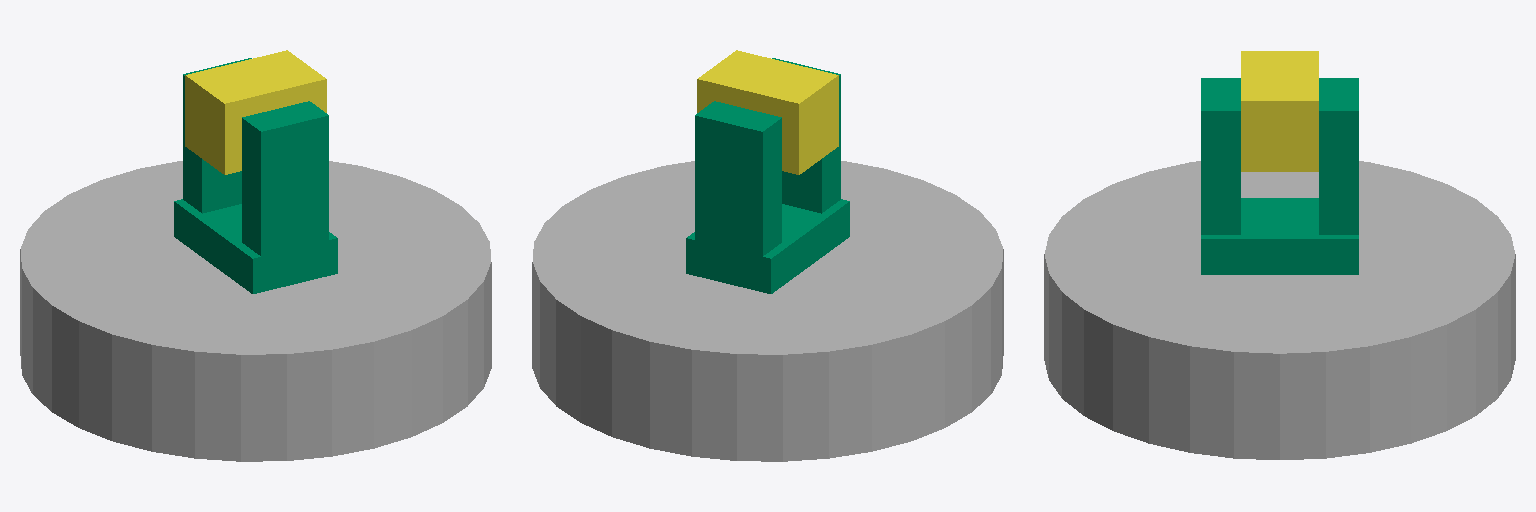
robot.urdf — camera_turret:
<?xml version="1.0" encoding="UTF-8"?>
<robot name="camera_turret">
  <link name="world"/>
  
  <link name="base_link">
    <visual>
      <geometry>
        <cylinder length="0.06" radius="0.12"/>
      </geometry>
      <material name="silver">
        <color rgba="0.75 0.75 0.75 1"/>
      </material>
      <origin rpy="0 0 0" xyz="0 0 0.03"/>
    </visual>
    <collision>
      <geometry>
        <cylinder length="0.06" radius="0.12"/>
      </geometry>
      <origin rpy="0 0 0" xyz="0 0 0.03"/>
    </collision>
    <inertial>
      <mass value="1.0"/>
      <origin rpy="0 0 0" xyz="0 0 0.03"/>
      <inertia ixx="0.0027" iyy="0.0027" izz="0.005" ixy="0" ixz="0" iyz="0"/>
    </inertial>
  </link>
  
  <joint name="fixed" type="fixed">
    <parent link="world"/>
    <child link="base_link"/>
  </joint>
  
  <link name="mobile_link">
    <collision>
      <origin xyz="0 0 0" rpy="0 0 0"/>
      <geometry>
    <box size="0.05 0.08 0.02"/>
      </geometry>
    </collision>
    <visual>
      <origin xyz="0 0 0" rpy="0 0 0"/>
      <geometry>
    <box size="0.05 0.08 0.02"/>
      </geometry>
      <material name="red"/>
    </visual>
    <inertial>
      <mass value="0.3" />
      <origin xyz="0 0 0" rpy="0 0 0"/>
      <inertia ixx="1.7e-4" ixy="0" ixz="0" iyy="7.25e-5" iyz="0" izz="2.225e-4" />
    </inertial>
    
    <!--Left ear-->
    <collision>
      <origin xyz="0 -0.03 0.045" rpy="0 0 0"/>
      <geometry>
    <box size="0.04 0.02 0.07"/>
      </geometry>
    </collision>
    <visual>
      <origin xyz="0 -0.03 0.045" rpy="0 0 0"/>
      <geometry>
    <box size="0.04 0.02 0.07"/>
      </geometry>
      <material name="red"/>
    </visual>
    <inertial>
      <mass value="0.3" />
      <origin xyz="0 -0.03 0.045" rpy="0 0 0"/>
      <inertia ixx="1.325e-4" ixy="0" ixz="0" iyy="1.625e-4" iyz="0" izz="5e-5" />
    </inertial>
    
    <!--Right ear-->
    <collision>
      <origin xyz="0 0.03 0.045" rpy="0 0 0"/>
      <geometry>
    <box size="0.04 0.02 0.07"/>
      </geometry>
    </collision>
    <visual>
      <origin xyz="0 0.03 0.045" rpy="0 0 0"/>
      <geometry>
    <box size="0.04 0.02 0.07"/>
      </geometry>
      <material name="red"/>
    </visual>
    <inertial>
      <mass value="0.3" />
      <origin xyz="0 0.03 0.045" rpy="0 0 0"/>
      <inertia ixx="1.325e-4" ixy="0" ixz="0" iyy="1.625e-4" iyz="0" izz="5e-5" />
    </inertial>    
  </link>  
  <joint name="mobileBase_joint" type="continuous">
    <axis xyz="0 0 1" />
    <origin xyz="0 0 0.07" rpy="0 0 0"/>
    <parent link="base_link"/>
    <child link="mobile_link"/>
  </joint>  


  <link name="camera_link">
    <collision>
      <origin xyz="0 0 0" rpy="0 0 0"/>
      <geometry>
    <box size="0.06 0.04 0.04"/>
      </geometry>
    </collision>
    <visual>
      <origin xyz="0 0 0" rpy="0 0 0"/>
      <geometry>
    <box size="0.06 0.04 0.04"/>
      </geometry>
      <material name="red"/>
    </visual>
    <inertial>
      <mass value="0.2" />
      <origin xyz="0 0 0" rpy="0 0 0"/>
      <inertia ixx="8e-5" ixy="0" ixz="0" iyy="1.3e-4" iyz="0" izz="1.3e-4" />
    </inertial>
  </link>
  <joint name="camera_joint" type="continuous">
    <axis xyz="0 1 0" />
    <origin xyz="0 0 0.07" rpy="0 0 0"/>
    <parent link="mobile_link"/>
    <child link="camera_link"/>
  </joint>  

  <!-- control plugin-->
  <gazebo>
    <plugin name="gazebo_ros_control" filename="libgazebo_ros_control.so">
      <robotSimType>gazebo_ros_control/DefaultRobotHWSim</robotSimType>
      <legacyModeNS>true</legacyModeNS>
    </plugin>
  </gazebo>
  
  <!-- Transmissions -->
  <transmission name="tran1">
    <type>transmission_interface/SimpleTransmission</type>
    <joint name="mobileBase_joint">
      <hardwareInterface>hardware_interface/PositionJointInterface</hardwareInterface>
    </joint>
    <actuator name="motor1">
      <hardwareInterface>PositionJointInterface</hardwareInterface>
      <mechanicalReduction>1</mechanicalReduction>
    </actuator>
  </transmission>
  
  <transmission name="tran2">
    <type>transmission_interface/SimpleTransmission</type>
    <joint name="camera_joint">
      <hardwareInterface>hardware_interface/PositionJointInterface</hardwareInterface>
    </joint>
    <actuator name="motor2">
      <hardwareInterface>PositionJointInterface</hardwareInterface>
      <mechanicalReduction>1</mechanicalReduction>
    </actuator>
  </transmission>


  
</robot>

--- Facts derived from the render (not from the file) ---
The picture shows the robot from 3 angles, left to right: view 1: azimuth 30°, elevation 25°; view 2: azimuth 150°, elevation 25°; view 3: azimuth 270°, elevation 25°; orthographic projection.
Robot: camera_turret — 4 links, 3 joints (2 continuous, 1 fixed); root link world; default pose: all joints at 0.
Links seen in each view (by area): view 1: base_link, mobile_link, camera_link; view 2: base_link, mobile_link, camera_link; view 3: base_link, mobile_link, camera_link.
Link boxes in pixels (x1,y1,x2,y2): base_link: [20, 161, 491, 461]; mobile_link: [174, 58, 337, 293]; camera_link: [185, 50, 326, 174]; base_link: [532, 161, 1003, 461]; mobile_link: [686, 58, 849, 293]; camera_link: [697, 50, 838, 174]; base_link: [1044, 161, 1515, 459]; mobile_link: [1201, 78, 1358, 274]; camera_link: [1241, 51, 1318, 171].
Size in the robot's own frame: 0.24 by 0.24 by 0.16 metres.
Geometry: primitives only (box / cylinder / sphere), no mesh files.